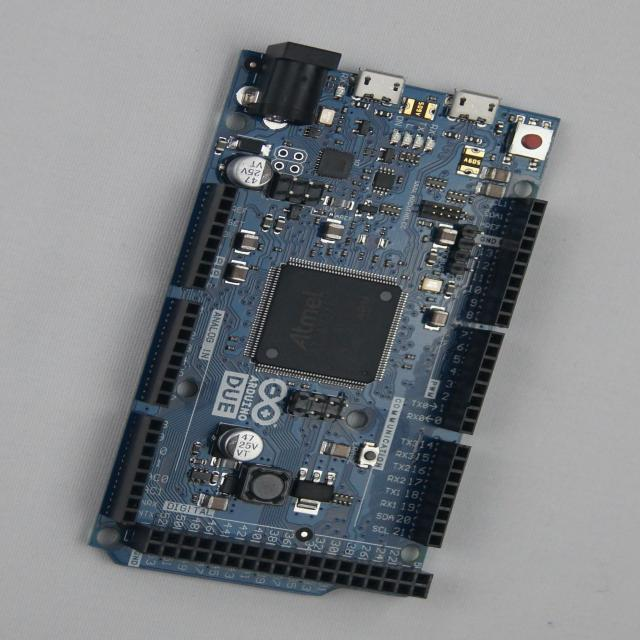Arduino-Due: (92, 43, 559, 598)
